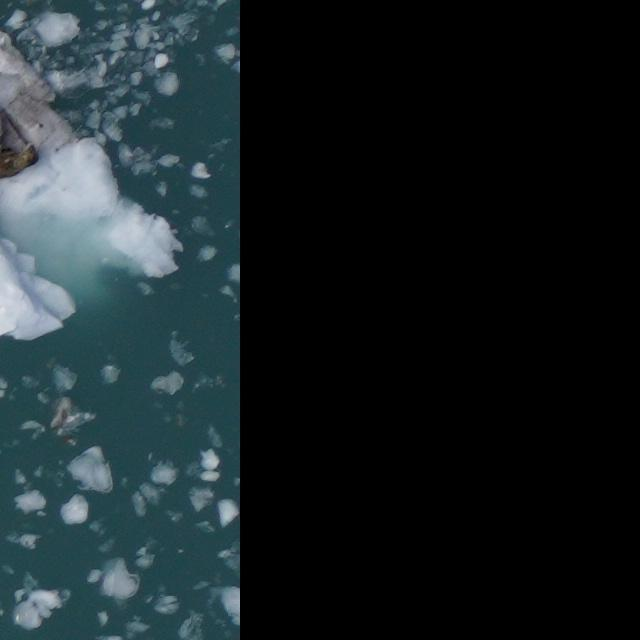seal: (0, 146, 35, 178)
